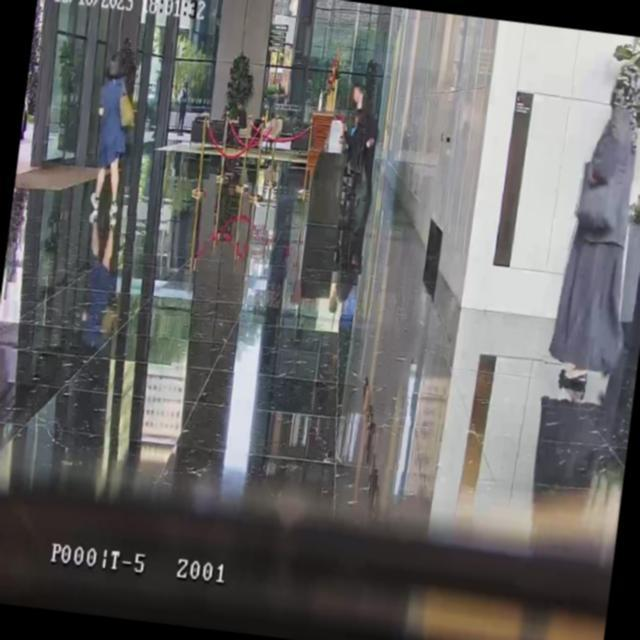person: (545, 58, 640, 392), (84, 47, 140, 226), (339, 84, 386, 200), (338, 106, 368, 169), (226, 98, 248, 148), (172, 80, 190, 137)
